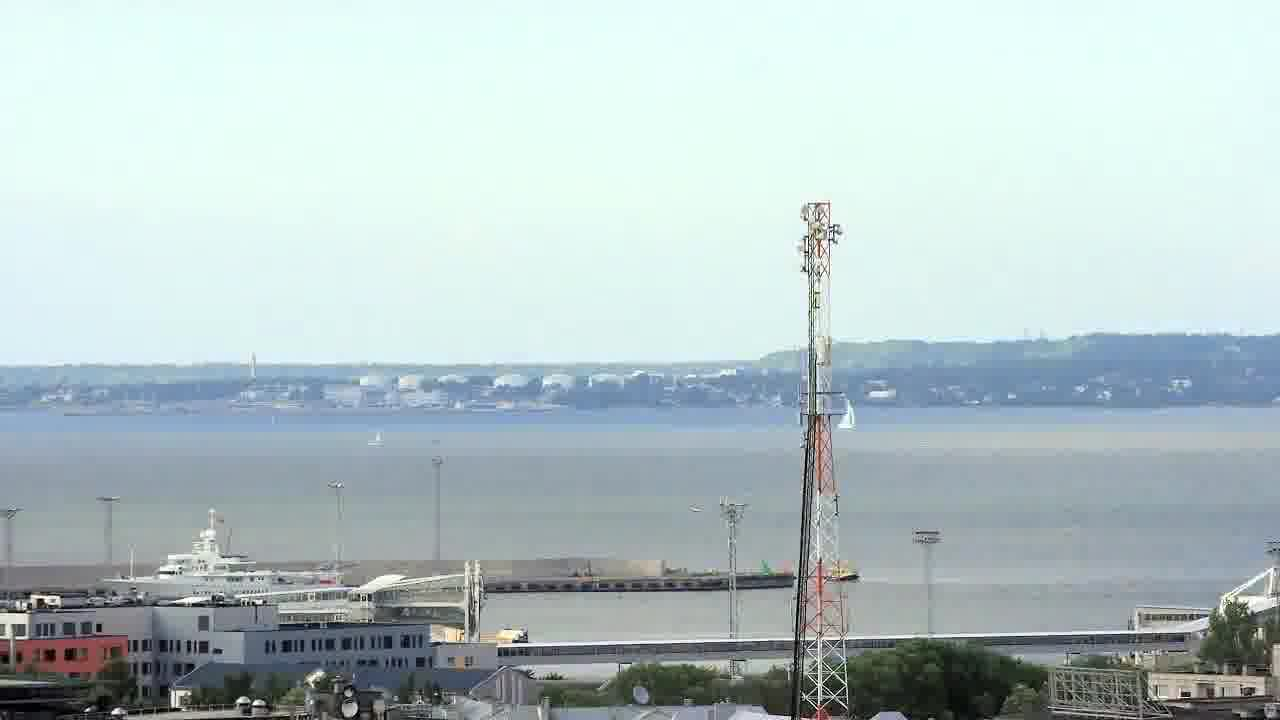type-2: (826, 396, 867, 439)
type-3: (88, 507, 346, 605)
